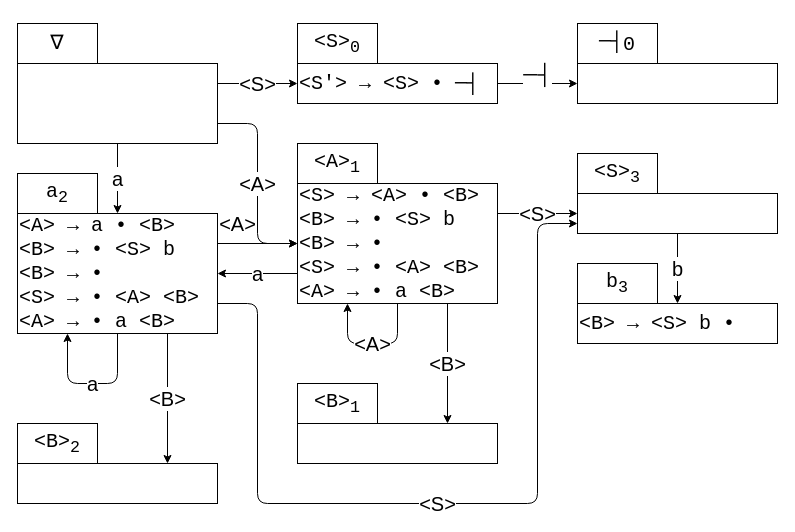
Image size: 795x532. Some labels were removed from this diagram. The centre of each missing label's shape, as x and y in pixels:
<A> → a <B> •: (117,483)
<B> → <S> • b: (677,213)
<S'> → <S> ─┤ •: (677,83)
<S'> → • <S> ─┤ <S> → • <A> <B> <A> → • a <B>: (117,103)
<S> → <A> <B> •: (397,443)
